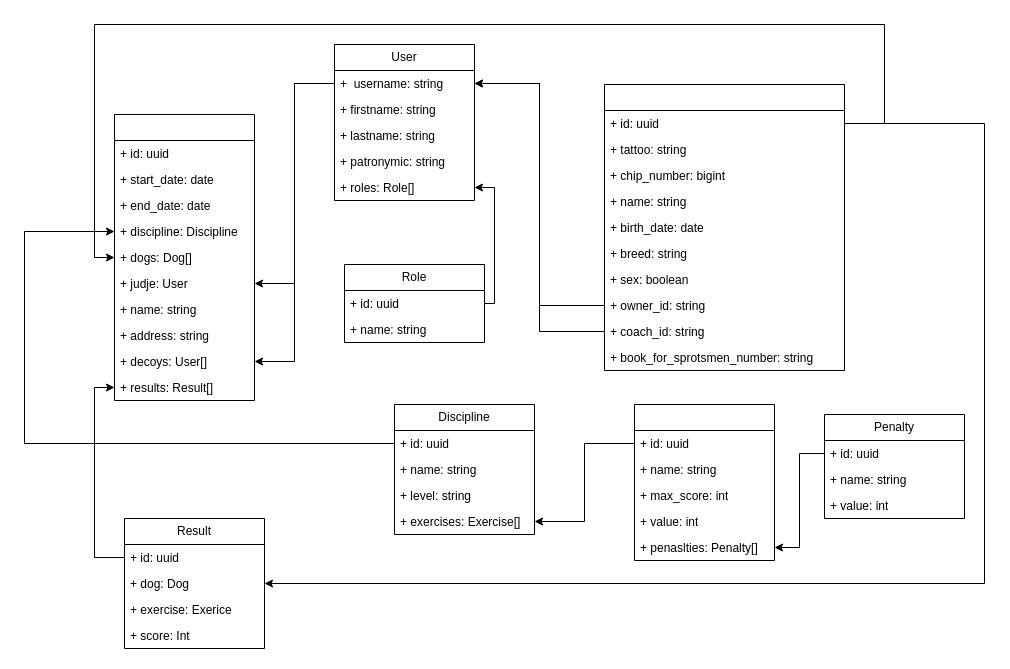
The diagram is 1010 pixels wide and 669 high, and some of its shapes have lost their labels. The shapes that lost their labels are listed below. From the top down, each one's box as (x1, y1, x2, y2) in pixels, then its label:
(604, 84, 844, 370): Dog
(114, 114, 254, 400): Competition
(634, 404, 774, 560): Exercise
